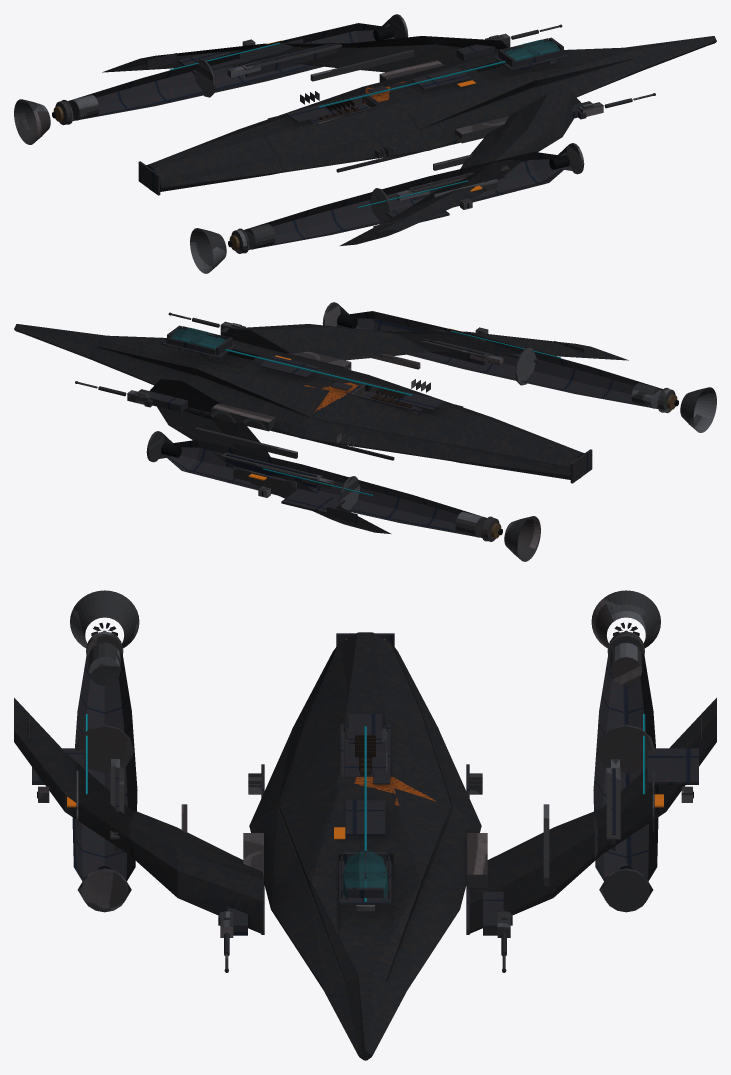
The model's file is wasp_production_v1_lod1.glb.
3 views of the same model, one above another, from view 1: azimuth 30°, elevation 25°; view 2: azimuth 150°, elevation 25°; view 3: azimuth 270°, elevation 25° (orthographic). The views are drawn at different scales.
Parts seen in each view (by area): view 1: LOD1_Hull, LOD1_Armor, LOD1_Mechanical, LOD1_Accent, LOD1_Canopy, LOD1_Thruster; view 2: LOD1_Hull, LOD1_Armor, LOD1_Mechanical, LOD1_Accent, LOD1_Canopy, LOD1_Thruster; view 3: LOD1_Hull, LOD1_Armor, LOD1_Mechanical, LOD1_Canopy, LOD1_Accent.
Boxes of the visible parts, bbox=[...] form: LOD1_Hull: bbox=[102, 36, 716, 246]; LOD1_Armor: bbox=[55, 17, 655, 251]; LOD1_Mechanical: bbox=[14, 14, 653, 273]; LOD1_Accent: bbox=[170, 42, 555, 208]; LOD1_Canopy: bbox=[504, 39, 560, 65]; LOD1_Thruster: bbox=[52, 26, 569, 247]; LOD1_Hull: bbox=[14, 324, 628, 534]; LOD1_Armor: bbox=[75, 305, 675, 539]; LOD1_Mechanical: bbox=[77, 302, 716, 561]; LOD1_Accent: bbox=[175, 330, 560, 496]; LOD1_Canopy: bbox=[170, 327, 226, 353]; LOD1_Thruster: bbox=[161, 314, 678, 535]; LOD1_Hull: bbox=[14, 632, 716, 1060]; LOD1_Armor: bbox=[29, 622, 701, 972]; LOD1_Mechanical: bbox=[38, 590, 692, 968]; LOD1_Canopy: bbox=[343, 851, 387, 900]; LOD1_Accent: bbox=[85, 714, 645, 902].
Size of what is drawn, in the model's own units: 21.88 by 2.2 by 14.96.
Materials: 9 (9 with a texture image).
